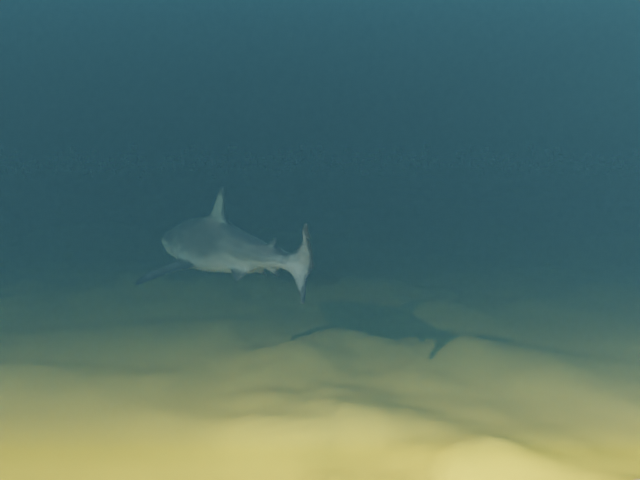Carribean Shark.001: (134, 186, 313, 304)
